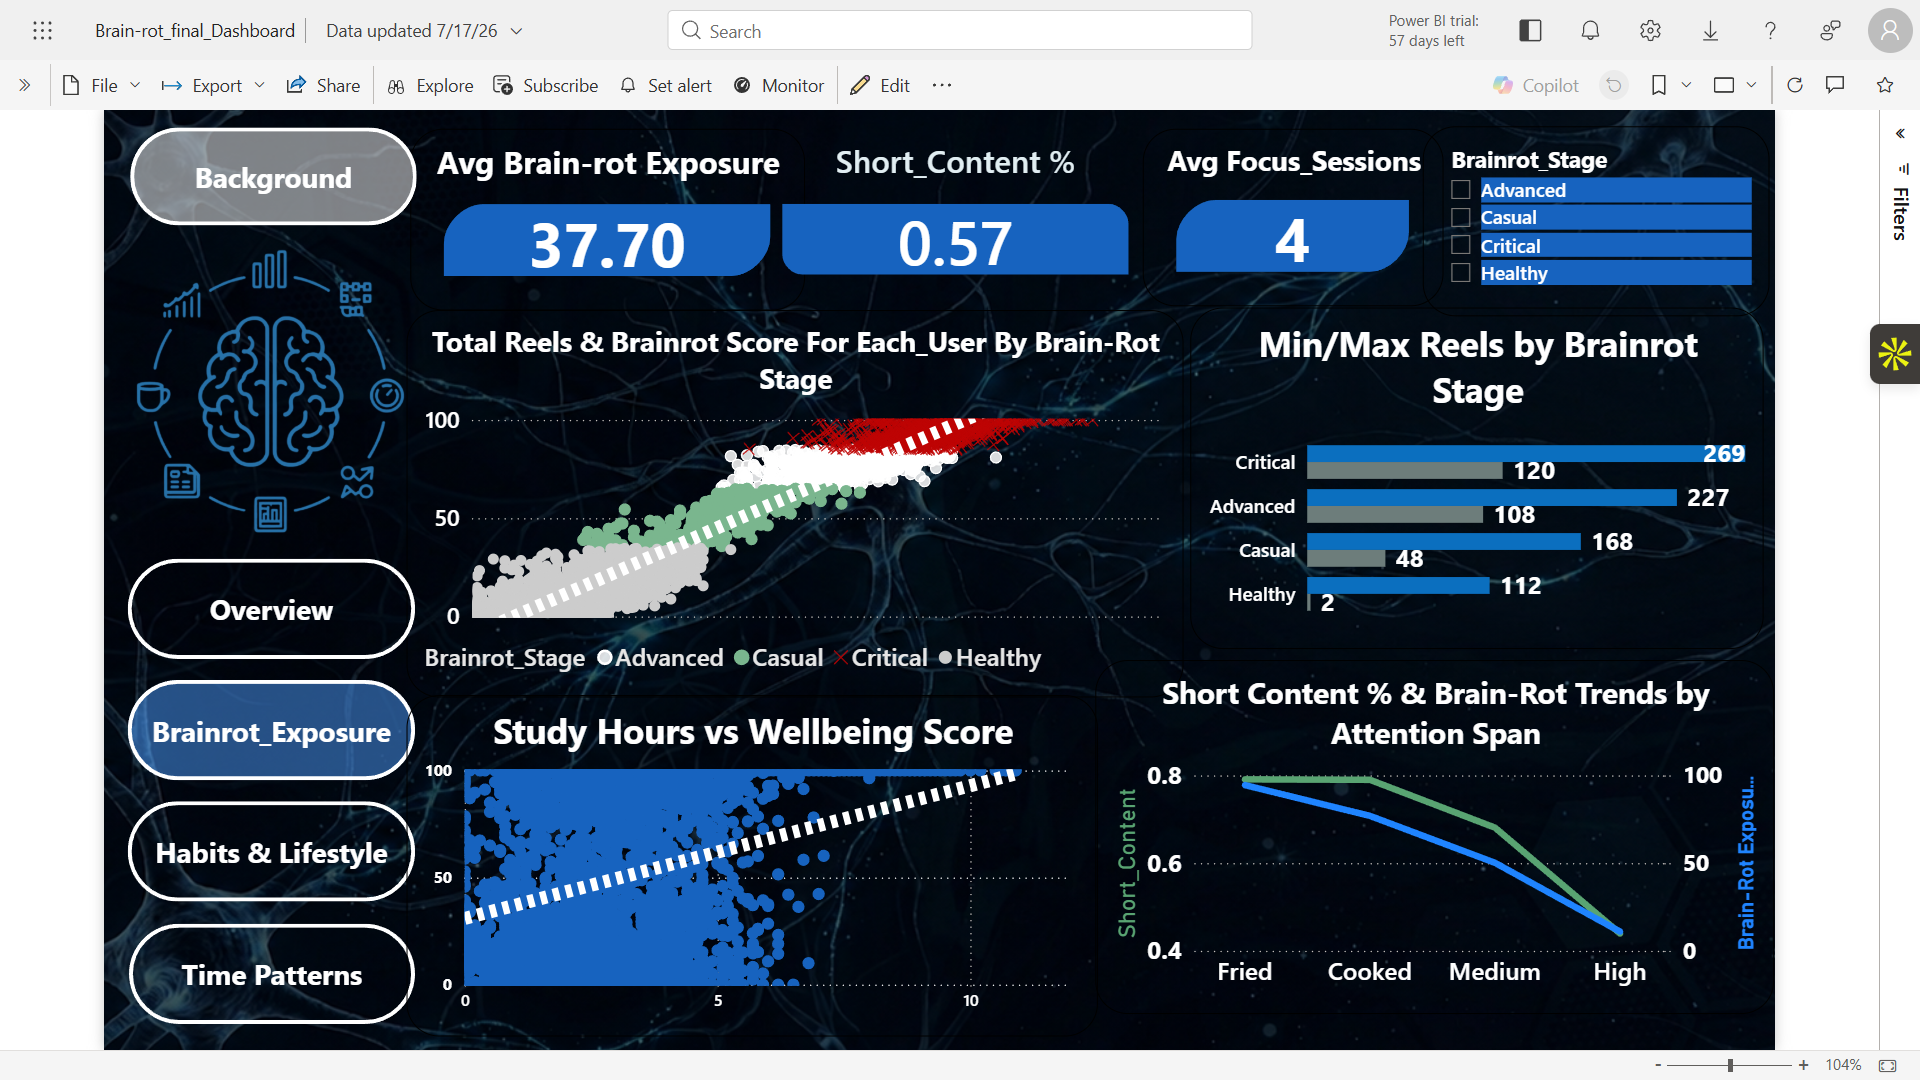

The page's visual inventory and layout, read from the dashboard file:
{"tool":"powerbi","page":{"name":"Brain_Rot Exposure","canvas":[1280,720],"ordinal":2},"visuals":[{"type":"group","id":"g1","title":"Brain-rot_Exposure","box":[18.6,12.3,1257.5,696.9],"z":0},{"type":"scatterChart","title":"Total Reels & Brainrot Score For Each_User By Brain-Rot Stage","fields":{"X":["Avg(Fact_User_Activity.Total_Reels_Watched)"],"Y":["Avg(Fact_User_Activity.Brainrot_Exposure_Score)"],"Series":["Dim_MentalState.Brainrot_Stage"],"Category":["Fact_User_Activity.ActivityID"]},"box":[231.7,153.3,594.8,296.8],"z":0,"group":"g1"},{"type":"group","id":"g2","title":"Constants","box":[18.6,344,220.1,355.9],"z":0,"group":"g4"},{"type":"group","id":"g3","title":"Constant","box":[18.6,344,220.1,355.9],"z":0,"group":"g2"},{"type":"actionButton","title":"Geographic Intel","box":[18.6,344,220.1,76.8],"z":0,"group":"g3"},{"type":"actionButton","title":"Backround","box":[20.6,13.4,219.6,75],"z":1000,"group":"g4"},{"type":"cardVisual","title":"Avg Brain-rot Exposure","fields":{"Data":["Avg(Fact_User_Activity.Brainrot_Exposure_Score)"]},"box":[235.2,14.6,302.2,139.1],"z":1000,"group":"g1"},{"type":"image","box":[18.9,96.8,217.1,237.1],"z":1000},{"type":"actionButton","title":"Time Patterns","box":[18.6,437.1,220.1,76.8],"z":1000,"group":"g3"},{"type":"group","id":"g4","title":"Group 1","box":[18.6,13.4,221.5,686.6],"z":2000,"group":"g1"},{"type":"lineChart","title":"Short Content % & Brain-Rot Trends by Attention Span","fields":{"Category":["Dim_MentalState.Attention_Span_Level"],"Y":["Avg(Fact_User_Activity.Short_Content_Percentage)"],"Y2":["Avg(Fact_User_Activity.Brainrot_Exposure_Score)"]},"box":[759.5,420.9,520.2,271.2],"z":2000},{"type":"actionButton","title":"Brainrot_Exposure","box":[19.6,623.2,219.1,76.8],"z":2000,"group":"g3"},{"type":"cardVisual","title":"Short_Content %","fields":{"Data":["Avg(Fact_User_Activity.Short_Content_Percentage)"]},"box":[503.1,23.3,299.4,120.2],"z":3000},{"type":"scatterChart","title":" Study Hours vs Wellbeing Score","fields":{"X":["Fact_User_Activity.Study_Hours"],"Y":["Fact_User_Activity.Wellbeing_Score"]},"box":[231.7,448,529.7,261.2],"z":3000,"group":"g1"},{"type":"actionButton","title":"Overview","box":[18.6,530.1,220.1,76.8],"z":3000,"group":"g3"},{"type":"clusteredBarChart","title":"Min/Max Reels by Brainrot Stage","fields":{"Category":["Dim_MentalState.Brainrot_Stage"],"Y":["Max(Fact_User_Activity.Total_Reels_Watched)","Min(Fact_User_Activity.Total_Reels_Watched)"]},"box":[832.8,150.9,439.6,261.2],"z":5000,"group":"g1"},{"type":"slicer","title":"AgeGroup_Slicer","fields":{"Values":["Dim_MentalState.Brainrot_Stage"]},"box":[1010.6,12.3,265.5,146],"z":6000,"group":"g1"},{"type":"cardVisual","title":"Avg Focus_Sessions","fields":{"Data":["Avg(Fact_User_Activity.Focus_Sessions_Count)"]},"box":[796.5,14.4,230.4,136.1],"z":8000,"group":"g1"}]}

Visuals, with their boxes on the page's 1280x720 design canvas (x1, y1, x2, y2). These are canvas units, not pixel positions in the 1920x1080 screenshot, which may show the page scaled, cropped or inside an application window:
"Brain-rot_Exposure" group: select_region(19, 12, 1276, 709)
"Total Reels & Brainrot Score For Each_User By Brain-Rot Stage" scatterChart: select_region(232, 153, 826, 450)
"Constants" group: select_region(19, 344, 239, 700)
"Constant" group: select_region(19, 344, 239, 700)
"Geographic Intel" actionButton: select_region(19, 344, 239, 421)
"Backround" actionButton: select_region(21, 13, 240, 88)
"Avg Brain-rot Exposure" cardVisual: select_region(235, 15, 537, 154)
image: select_region(19, 97, 236, 334)
"Time Patterns" actionButton: select_region(19, 437, 239, 514)
"Group 1" group: select_region(19, 13, 240, 700)
"Short Content % & Brain-Rot Trends by Attention Span" lineChart: select_region(760, 421, 1280, 692)
"Brainrot_Exposure" actionButton: select_region(20, 623, 239, 700)
"Short_Content %" cardVisual: select_region(503, 23, 802, 144)
" Study Hours vs Wellbeing Score" scatterChart: select_region(232, 448, 761, 709)
"Overview" actionButton: select_region(19, 530, 239, 607)
"Min/Max Reels by Brainrot Stage" clusteredBarChart: select_region(833, 151, 1272, 412)
"AgeGroup_Slicer" slicer: select_region(1011, 12, 1276, 158)
"Avg Focus_Sessions" cardVisual: select_region(796, 14, 1027, 150)
